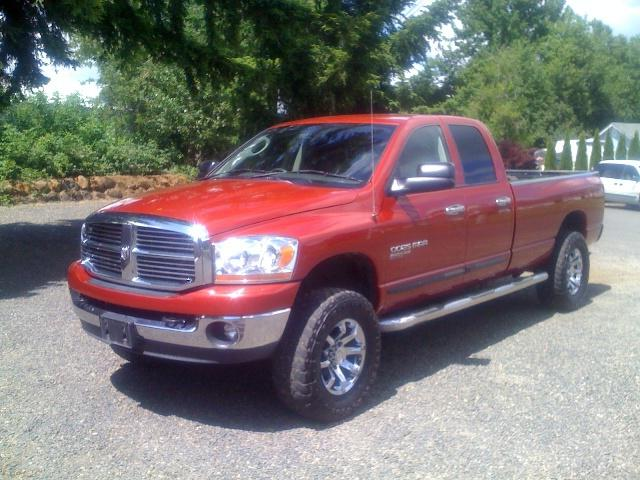Car: (42, 99, 625, 438)
